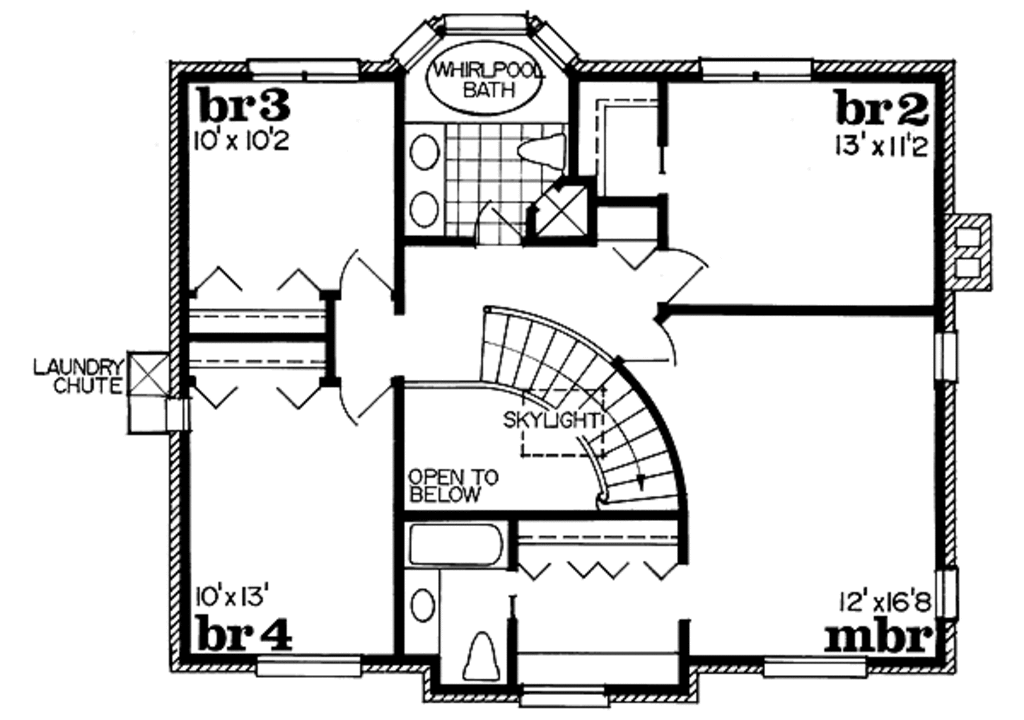door: (331, 250, 396, 307), (619, 319, 679, 366), (659, 244, 709, 300), (338, 382, 390, 430), (470, 201, 520, 248)
large_sink: (509, 125, 568, 177), (451, 632, 499, 687)
small_sink: (402, 117, 446, 236), (402, 566, 441, 659)
stairs: (480, 301, 688, 513)
tub: (421, 39, 557, 122), (403, 517, 513, 574)
windows: (241, 56, 368, 87), (699, 56, 812, 87), (251, 648, 361, 678), (509, 681, 609, 713), (760, 654, 864, 681), (931, 328, 960, 393)
